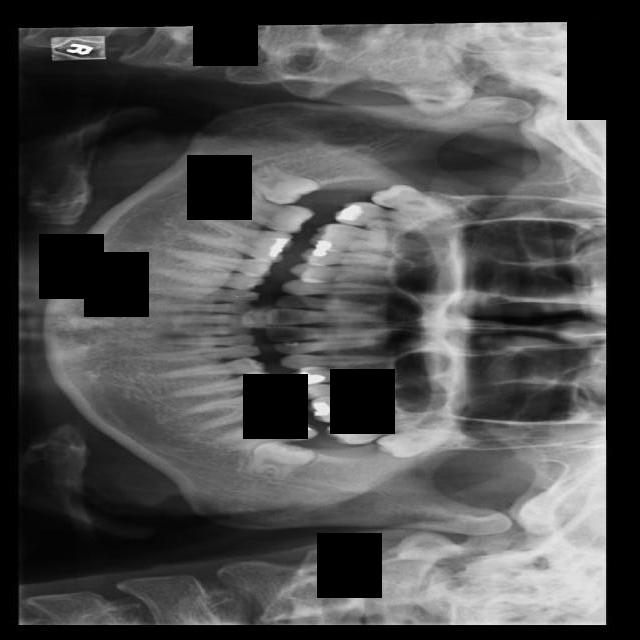3M ESPE Implant: (369, 177, 465, 225)
52: (266, 400, 320, 454), (245, 230, 294, 263), (310, 224, 361, 252), (306, 395, 354, 424), (334, 201, 382, 226), (287, 364, 332, 386), (299, 247, 343, 266), (274, 341, 311, 355)
73: (132, 584, 140, 590)
BioHorizons Implant: (325, 406, 450, 450)
BioLife Implant: (373, 423, 465, 461)
Biomet 3i Implant: (242, 437, 315, 487)
Blue Sky Bio Implant: (208, 407, 319, 458)
Caries: (333, 197, 458, 242)
Implant: (213, 192, 315, 239)
Keystone Dental Implant: (239, 152, 322, 220)
